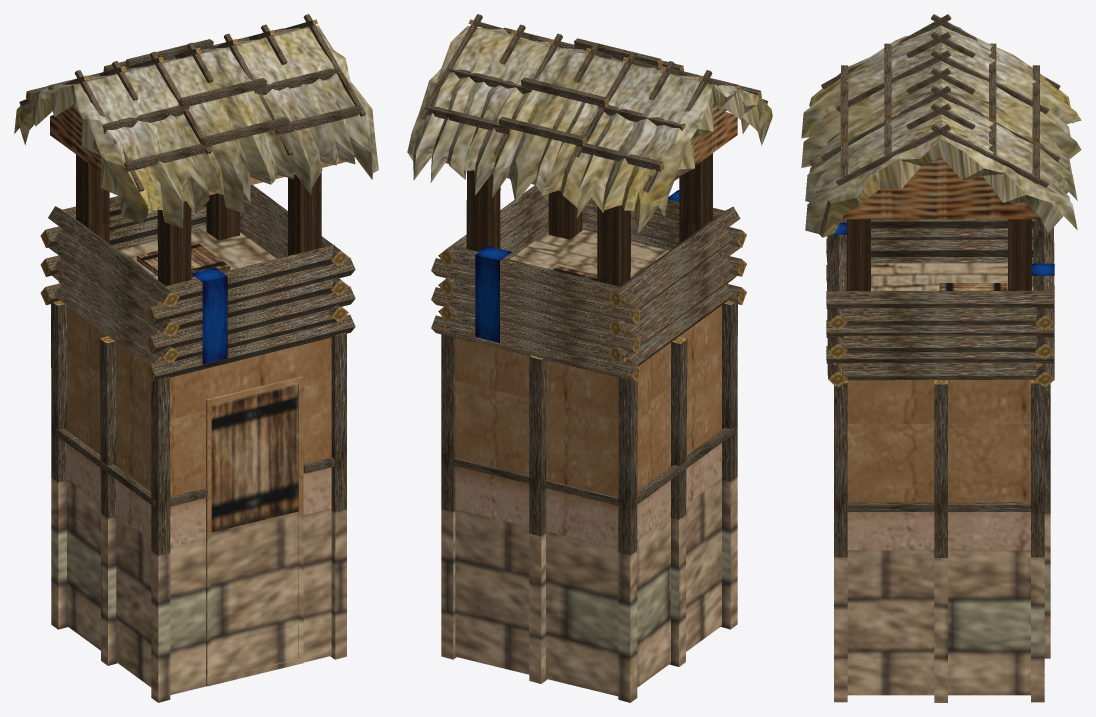
File: wood_tower.dae
3 renders of one model, left to right at view 1: azimuth 30°, elevation 25°; view 2: azimuth 150°, elevation 25°; view 3: azimuth 270°, elevation 25°, orthographic.
Parts seen in each view (by area): view 1: wood_tower; view 2: wood_tower; view 3: wood_tower.
Part boxes in pixels (x1,y1,x2,y2): wood_tower: (14, 14, 378, 702); wood_tower: (407, 14, 772, 702); wood_tower: (801, 14, 1081, 702).
Size of the model in its own units: 8.6 by 7.97 by 18.42.
